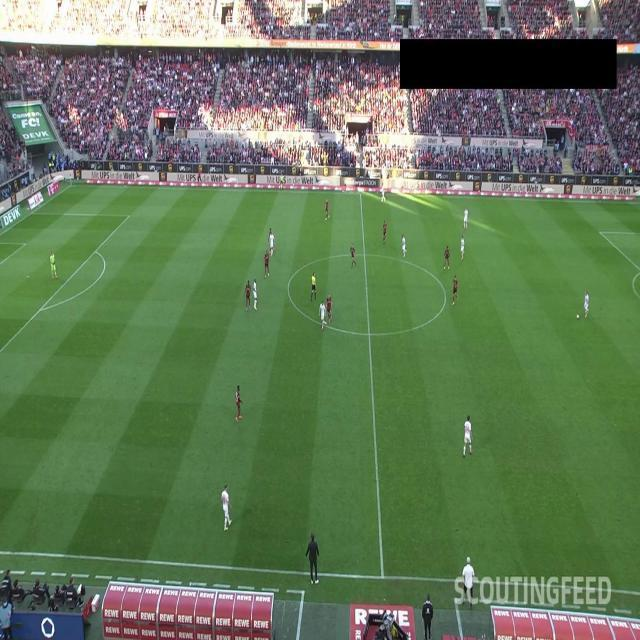ball: (576, 313, 580, 320)
goalkeeper: (50, 250, 58, 279)
player: (222, 484, 232, 531), (463, 415, 473, 458), (235, 385, 243, 423), (319, 300, 327, 330), (245, 280, 252, 311), (452, 275, 459, 305), (326, 293, 332, 323), (443, 245, 450, 270), (584, 290, 590, 319), (264, 250, 270, 278), (253, 278, 258, 311), (269, 232, 275, 257), (351, 243, 357, 268), (268, 228, 274, 253), (401, 235, 407, 258), (460, 235, 465, 260), (383, 220, 388, 243), (464, 207, 469, 230), (325, 199, 330, 221), (381, 182, 386, 202)
referee: (311, 271, 317, 301), (279, 173, 284, 192)
